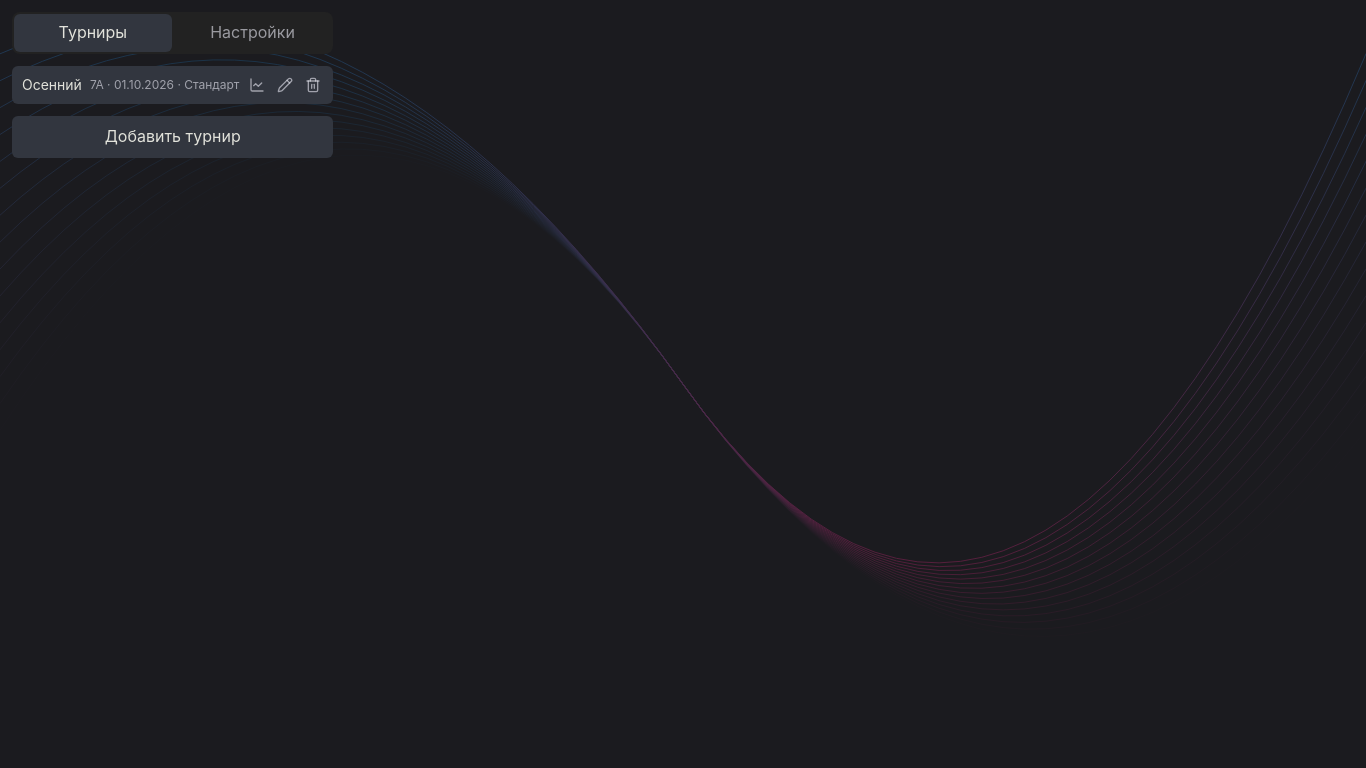
TournamentsPanel › deletes a tournament after confirmation
Click the button named "Удалить: Осенний": {"x": 313, "y": 85} 303,75 -> 323,95
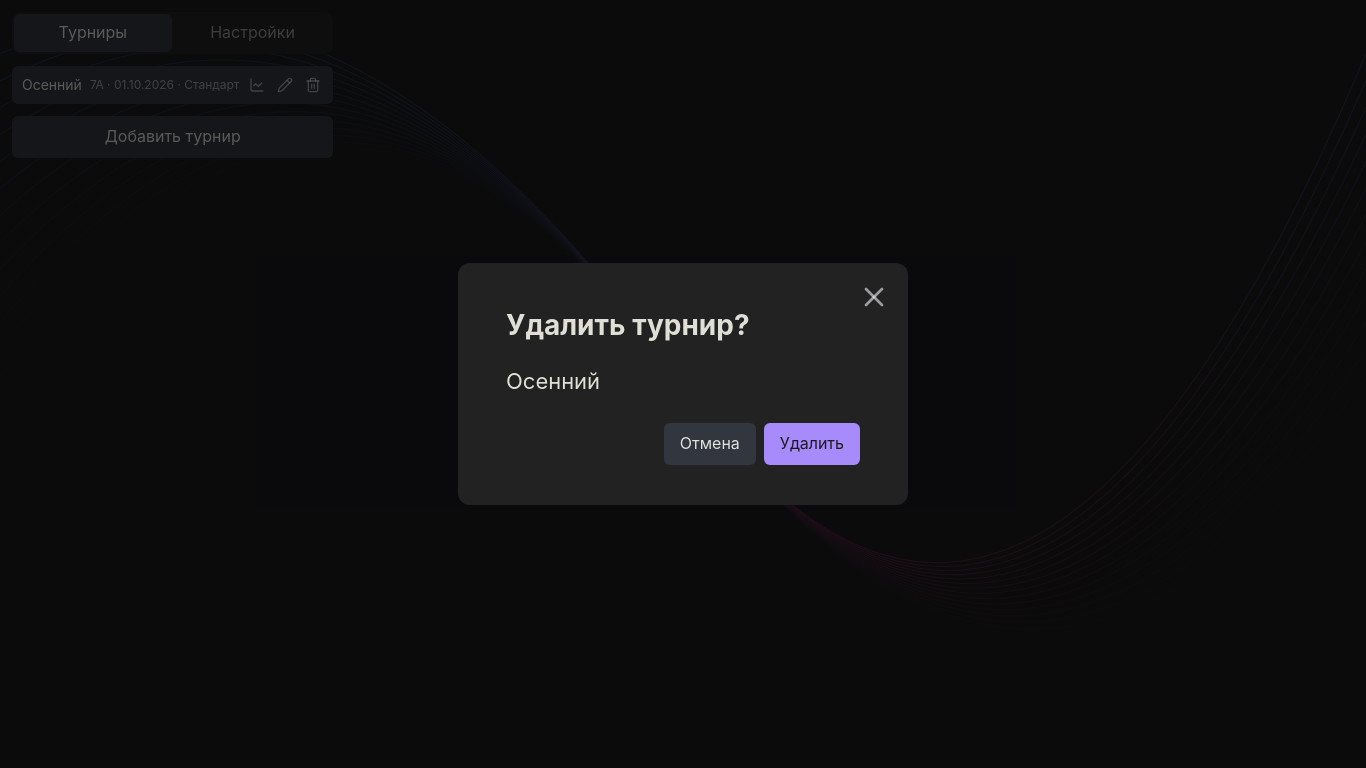
Click the button "Удалить": {"x": 812, "y": 444} 764,423 -> 860,465
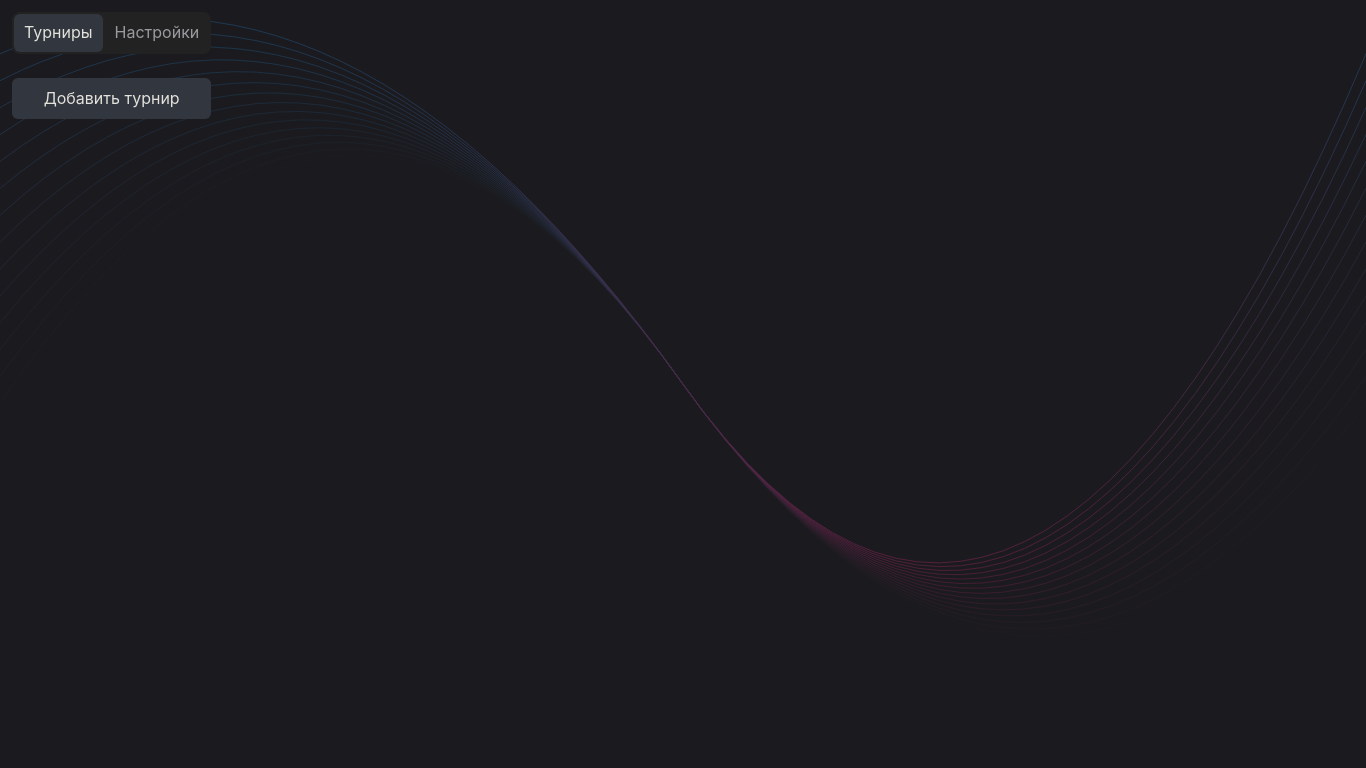
Result: the text "Осенний" is gone
